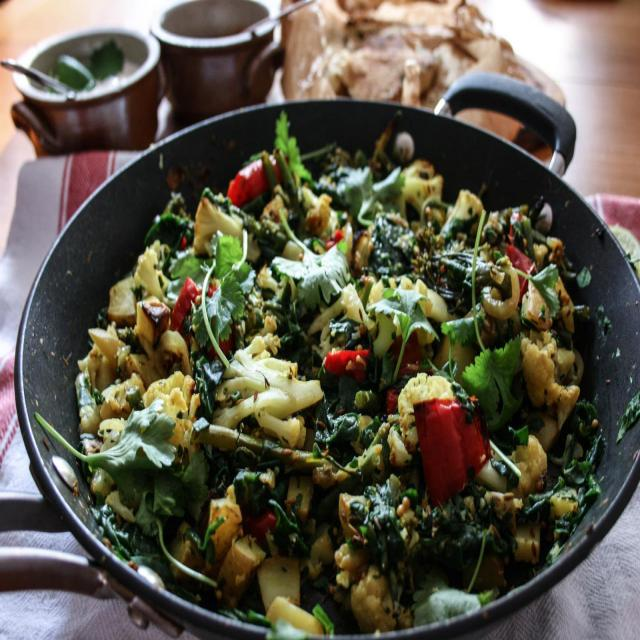Aloo Gobi: (162, 185, 540, 593)
